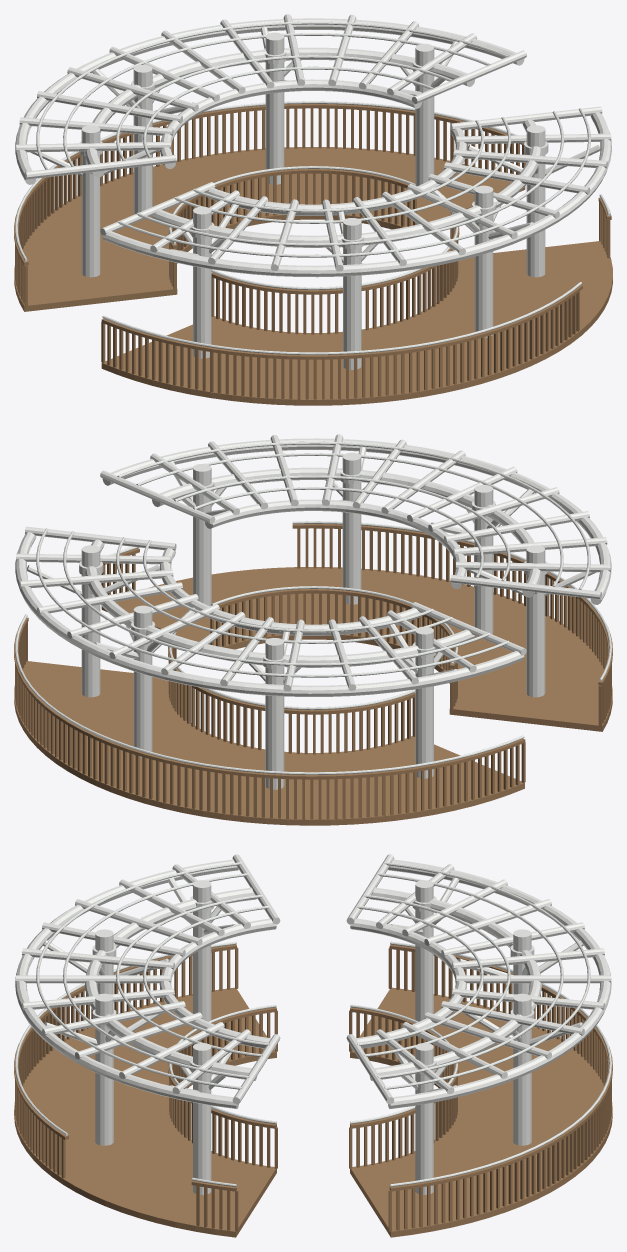
3 views of the same model, one above another, from view 1: azimuth 30°, elevation 25°; view 2: azimuth 150°, elevation 25°; view 3: azimuth 270°, elevation 25° (orthographic).
Parts seen in each view (by area): view 1: round-canopy__wood, round-canopy__cap, round-canopy__column-cap, round-canopy__frame; view 2: round-canopy__wood, round-canopy__cap, round-canopy__column-cap, round-canopy__frame; view 3: round-canopy__wood, round-canopy__cap, round-canopy__frame, round-canopy__column-cap.
Boxes of the visible parts, x1,y1,x2,y2 form: round-canopy__wood: [14, 103, 612, 405]; round-canopy__cap: [15, 14, 611, 277]; round-canopy__column-cap: [81, 32, 545, 369]; round-canopy__frame: [15, 21, 610, 354]; round-canopy__wood: [14, 523, 612, 825]; round-canopy__cap: [15, 434, 611, 696]; round-canopy__column-cap: [81, 452, 545, 789]; round-canopy__frame: [15, 441, 611, 774]; round-canopy__wood: [14, 944, 612, 1237]; round-canopy__cap: [15, 854, 611, 1108]; round-canopy__frame: [15, 862, 611, 1186]; round-canopy__column-cap: [95, 880, 531, 1194].
Size of the model in its own units: 13.53 by 3.92 by 14.01.
